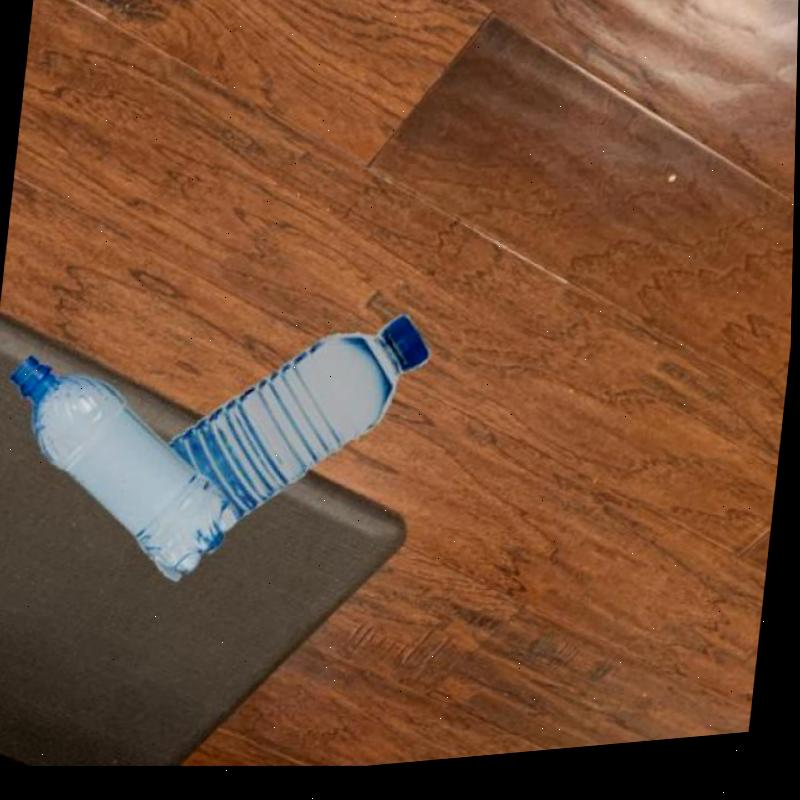botella: (159, 301, 436, 571), (0, 340, 261, 604)
